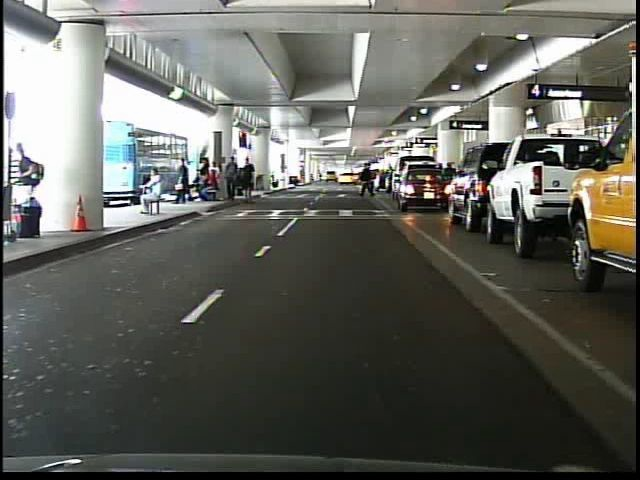person: (133, 167, 166, 219), (172, 156, 191, 208), (358, 159, 378, 203), (358, 160, 374, 197)
